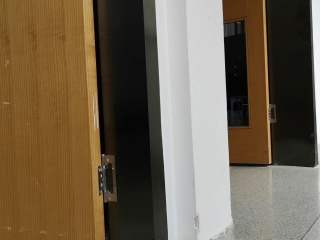room: (3, 2, 177, 239), (218, 2, 320, 169)
